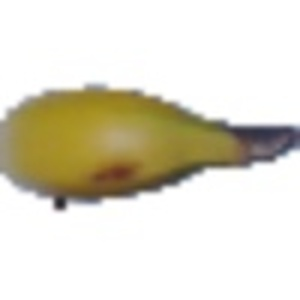banana: (2, 82, 293, 201)
